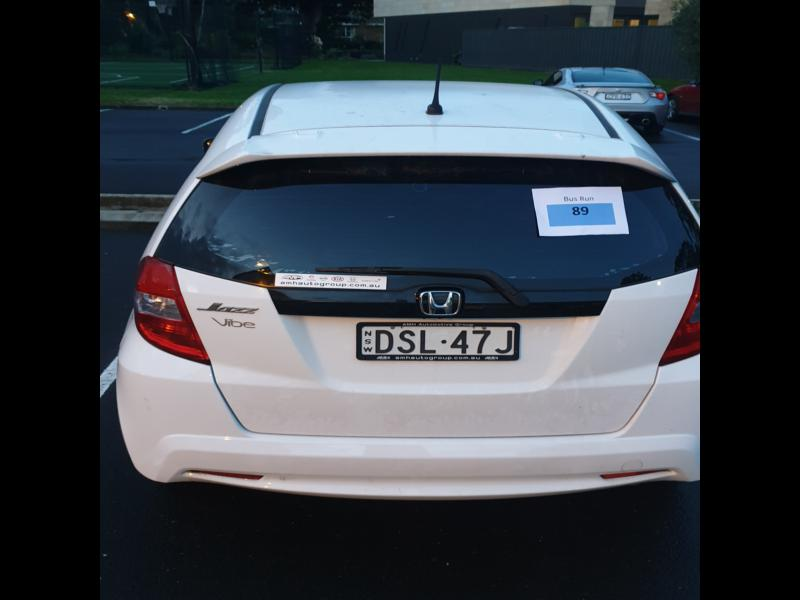BusRun: (548, 202, 615, 225)
PlateNo: (356, 323, 518, 355)
